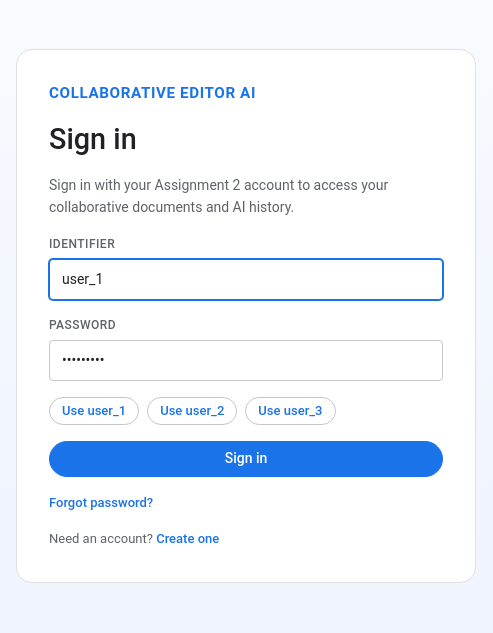
Test: LoginPage › shows backend-facing errors from the auth adapter
Type "user_2" into the field labelled "Identifier" at (246, 279), box top-left (49, 259), bottom-right (443, 300)
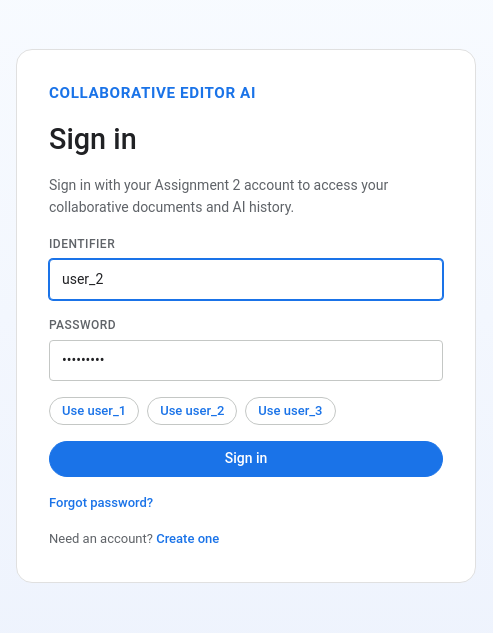
Type "secret-pass" into the password field labelled "Password" at (246, 360), box top-left (49, 340), bottom-right (443, 381)
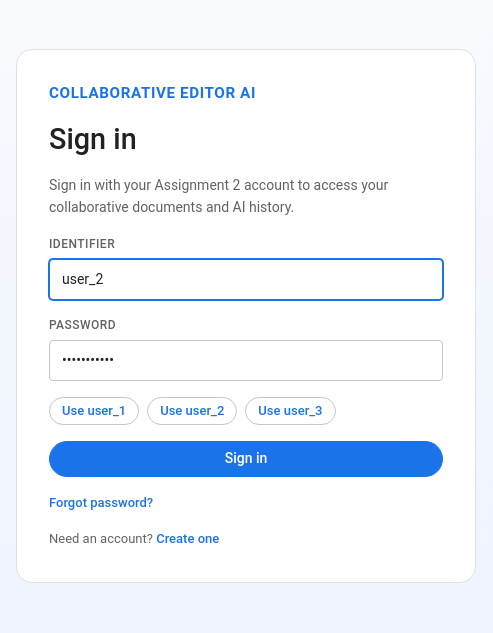
Click the button "Sign in" at (246, 459), box top-left (49, 441), bottom-right (443, 477)
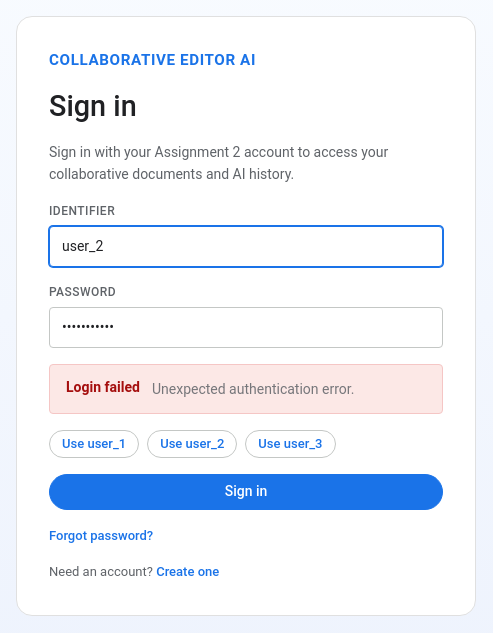
Now the text "Unexpected authentication error." is shown, box top-left (152, 378), bottom-right (354, 401)
